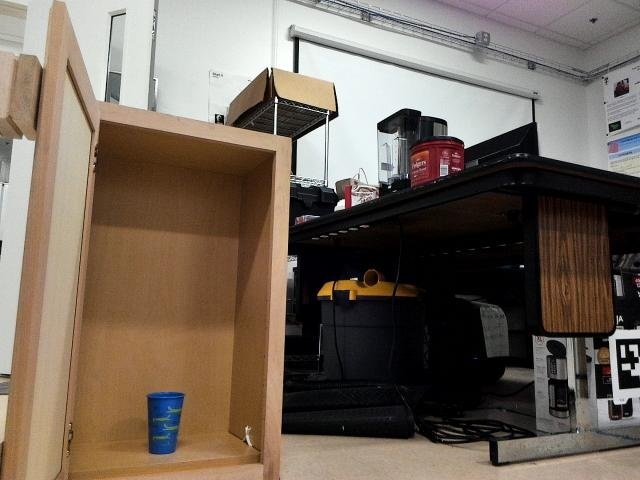water_cup: (140, 385, 187, 460)
